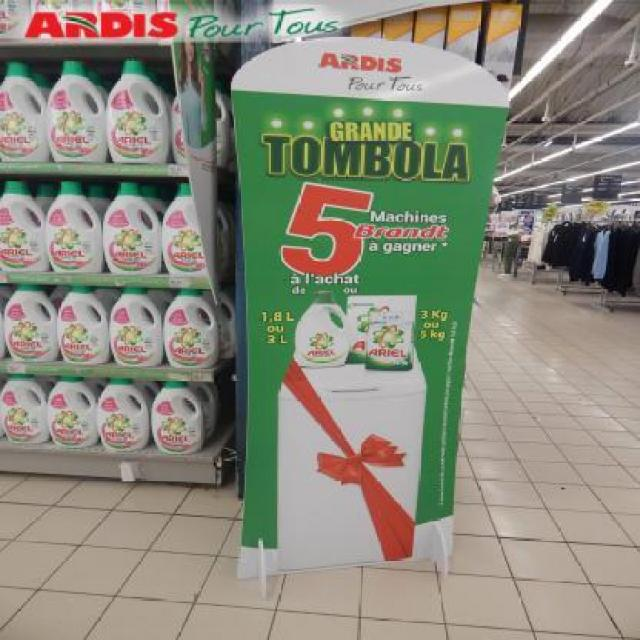Detergent: (106, 58, 171, 162), (44, 56, 107, 162), (42, 178, 104, 274), (102, 181, 161, 273), (0, 172, 49, 274), (0, 62, 48, 162), (108, 284, 163, 368), (159, 180, 206, 278), (148, 375, 206, 454), (3, 283, 59, 362), (166, 287, 219, 367), (57, 284, 109, 365), (163, 289, 215, 368), (46, 369, 96, 448), (0, 369, 49, 448), (100, 374, 148, 452)
